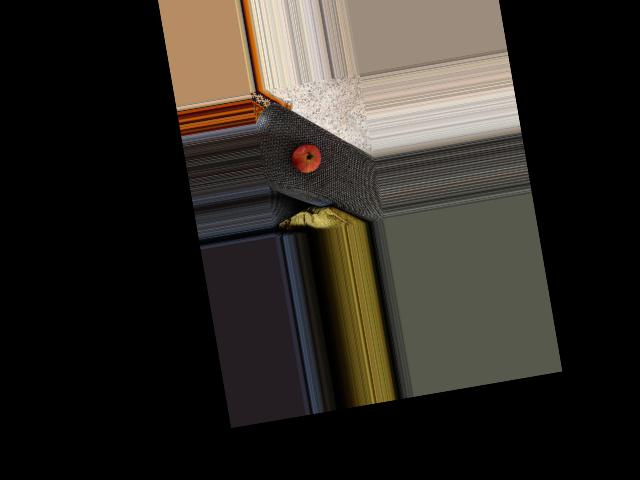apple: (286, 141, 322, 179)
